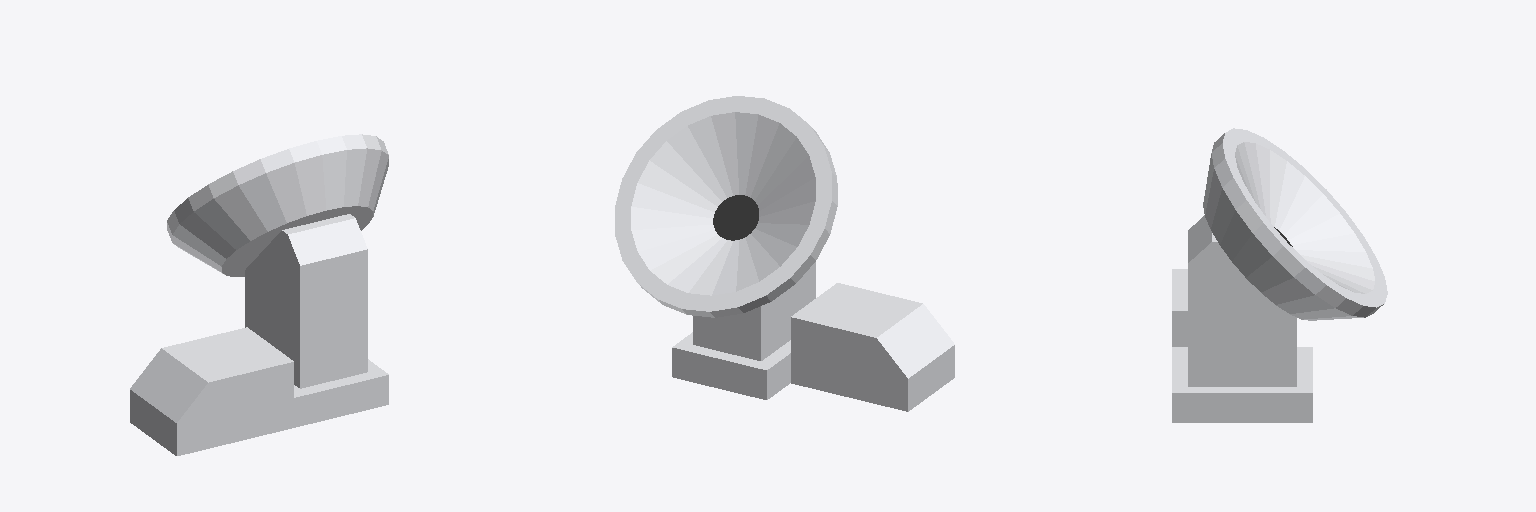
File: radarEquipment.obj
3 views of the same model, side by side, from view 1: azimuth 30°, elevation 25°; view 2: azimuth 150°, elevation 25°; view 3: azimuth 270°, elevation 25° (orthographic).
Parts seen in each view (by area): view 1: radarEquipment; view 2: radarEquipment; view 3: radarEquipment.
Boxes of the visible parts, x1,y1,x2,y2 form: radarEquipment: [130, 134, 388, 455]; radarEquipment: [615, 96, 954, 411]; radarEquipment: [1172, 128, 1387, 422].
Bounding box in the file's own units: 0.5889 × 0.5431 × 0.4131.